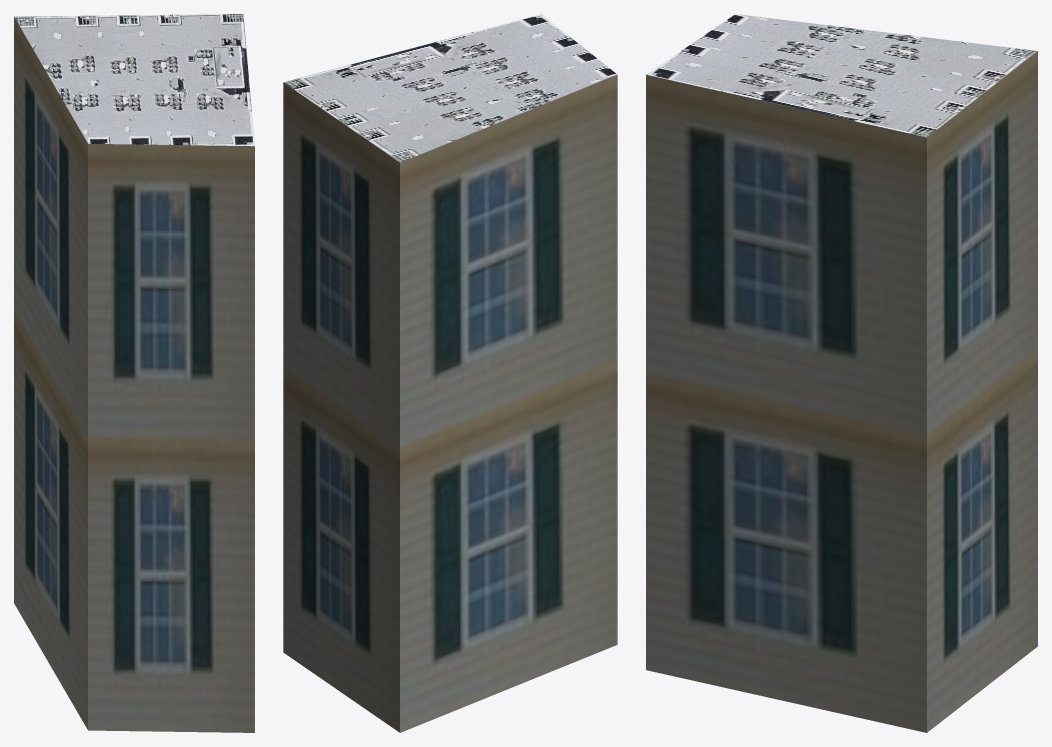
The model's file is ResTex__373.fbx.
The picture shows the model from 3 angles, left to right: view 1: azimuth 30°, elevation 25°; view 2: azimuth 150°, elevation 25°; view 3: azimuth 270°, elevation 25°; orthographic projection. The views are drawn at different scales.
Parts seen in each view (by area): view 1: CityEngineMaterial_7_m, CityEngineMaterial_8_m; view 2: CityEngineMaterial_7_m, CityEngineMaterial_8_m; view 3: CityEngineMaterial_7_m, CityEngineMaterial_8_m.
Part boxes in pixels (x1,y1,x2,y2): CityEngineMaterial_7_m: [14, 17, 254, 732]; CityEngineMaterial_8_m: [14, 14, 254, 146]; CityEngineMaterial_7_m: [283, 74, 617, 732]; CityEngineMaterial_8_m: [284, 14, 617, 162]; CityEngineMaterial_7_m: [646, 51, 1037, 732]; CityEngineMaterial_8_m: [646, 14, 1037, 137].
Size of the model in its own units: 2.67 by 6 by 3.58.
2 materials, 2 textured.
